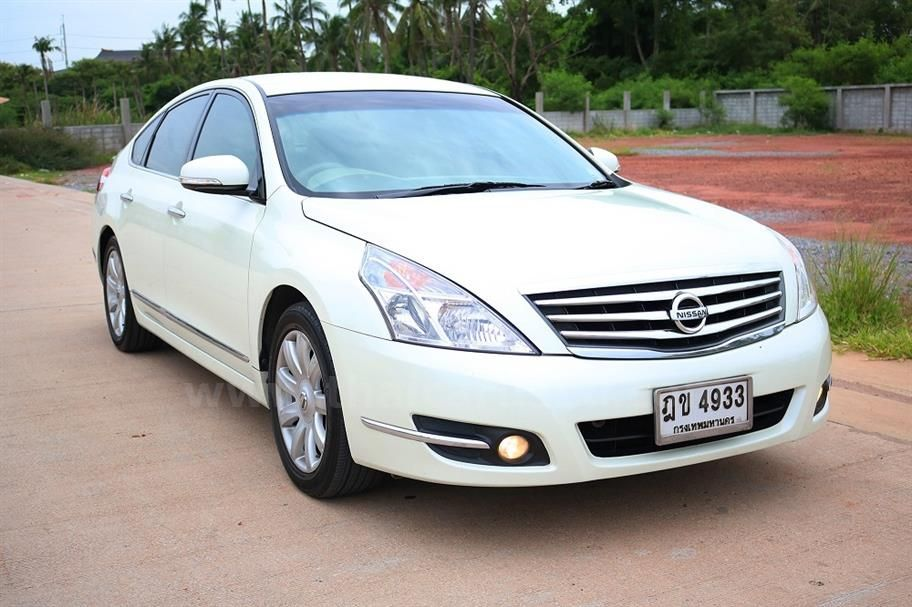sedan: (90, 69, 834, 505)
